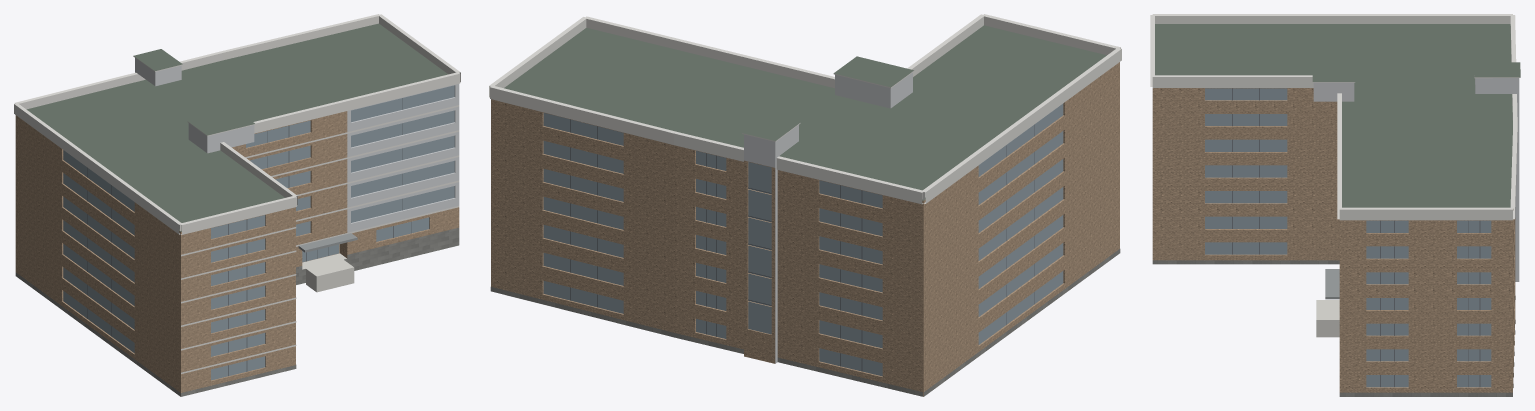
3 views of the same model, side by side, from view 1: azimuth 30°, elevation 25°; view 2: azimuth 150°, elevation 25°; view 3: azimuth 270°, elevation 25° (orthographic). The views are drawn at different scales.
Visible parts, largest first — view 1: b222__wall, b222__roof, b222__glass, b222__trim, b222__wall2, b222__base, b222__entranceStair, b222__frame, b222__canopy; view 2: b222__wall, b222__roof, b222__glass, b222__trim, b222__wall2, b222__base, b222__frame; view 3: b222__wall, b222__roof, b222__glass, b222__trim, b222__wall2, b222__base, b222__entranceStair, b222__frame, b222__canopy.
Boxes of the visible parts, x1,y1,x2,y2 form: b222__wall: (15,111,459,396); b222__roof: (26,23,458,284); b222__glass: (63,85,454,380); b222__trim: (14,14,460,373); b222__wall2: (135,58,459,232); b222__base: (15,227,459,396); b222__entranceStair: (302,253,354,292); b222__frame: (87,98,411,376); b222__canopy: (298,233,357,252); b222__wall: (491,62,1119,396); b222__roof: (504,25,1106,200); b222__glass: (543,103,1063,376); b222__trim: (489,14,1121,204); b222__wall2: (744,72,912,363); b222__base: (490,249,1120,396); b222__frame: (570,119,1034,371); b222__wall: (1152,88,1515,392); b222__roof: (1155,24,1520,207); b222__glass: (1205,88,1491,387); b222__trim: (1150,14,1520,220); b222__wall2: (1313,78,1519,281); b222__base: (1152,260,1515,396); b222__entranceStair: (1316,300,1339,337); b222__frame: (1232,88,1480,387); b222__canopy: (1325,269,1339,299).
Size of the model in its own units: 58.77 by 29.05 by 47.01.
10 materials, 2 textured.
